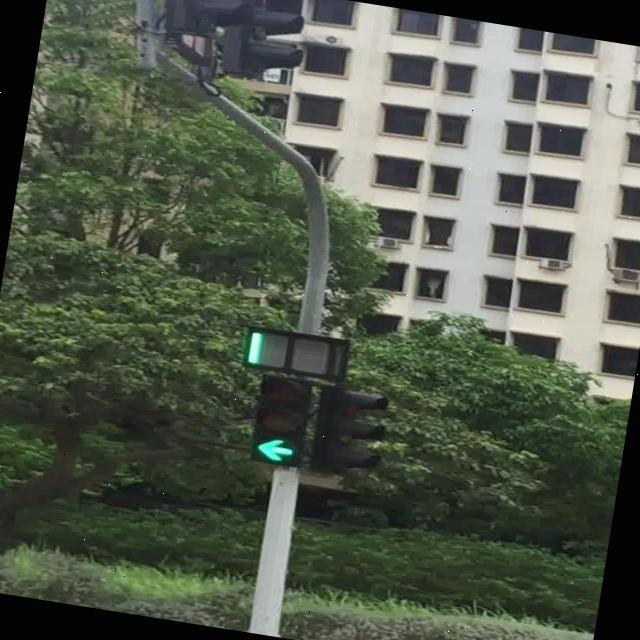green_light: (252, 373, 312, 468)
